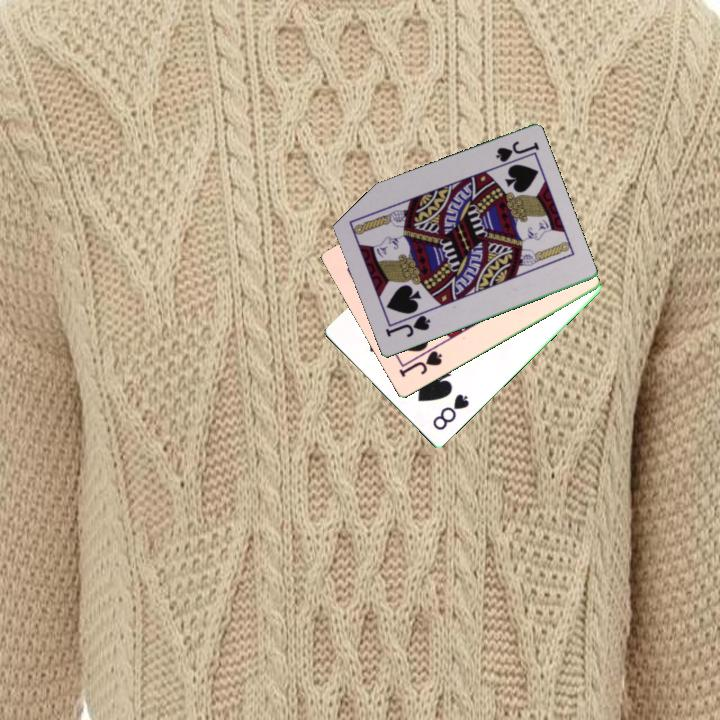8s: (429, 391, 472, 434)
Js: (395, 347, 445, 380), (382, 312, 434, 341), (492, 138, 542, 166)
